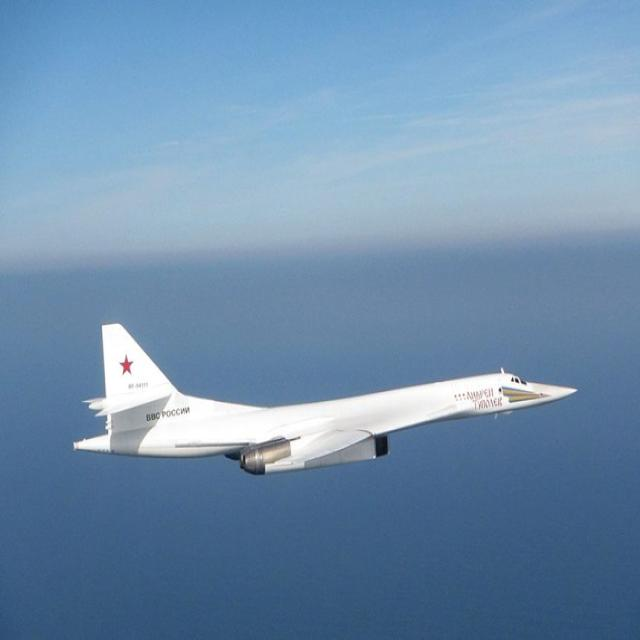Tu160: (54, 261, 603, 538)
